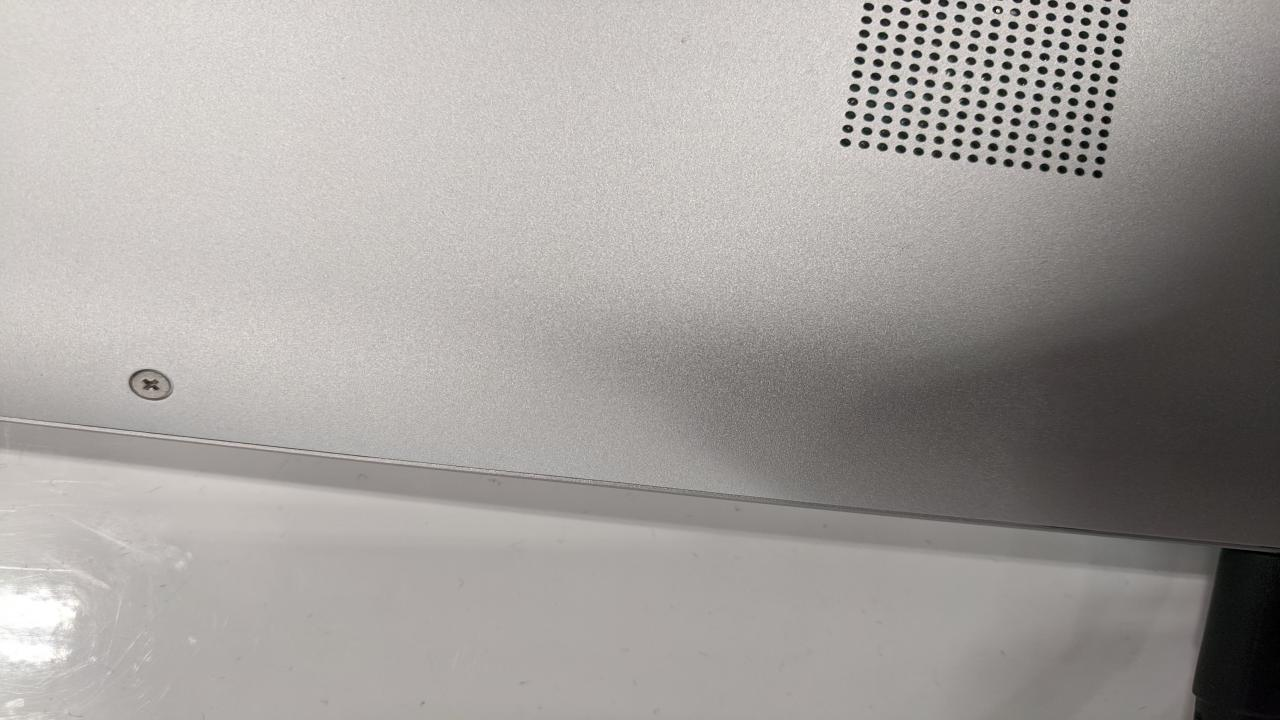CRS: (130, 370, 173, 403)
